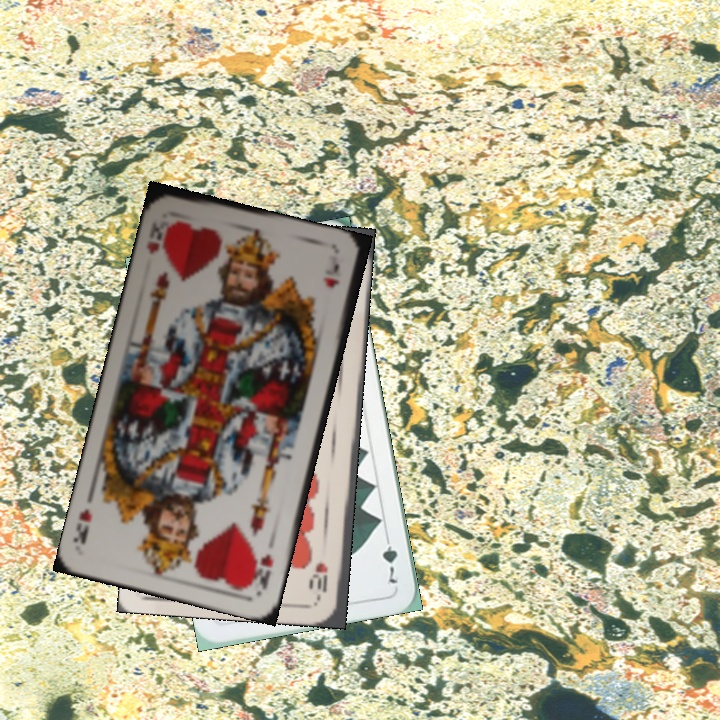G7: (378, 529, 400, 587)
H10: (313, 559, 331, 600)
HK: (142, 216, 175, 260), (247, 550, 276, 595)
